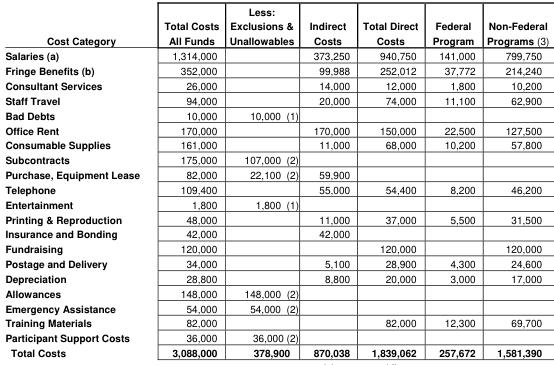table: (4, 3, 548, 359)
table column: (4, 3, 151, 359), (223, 3, 303, 359), (151, 3, 223, 359), (355, 3, 424, 359), (480, 3, 548, 359), (424, 3, 480, 359), (303, 3, 355, 359)
table column header: (4, 3, 548, 47)
table row: (4, 3, 548, 47), (4, 47, 548, 62), (4, 62, 548, 77), (4, 77, 548, 92), (4, 92, 548, 107), (4, 107, 548, 122), (4, 122, 548, 137), (4, 151, 548, 166), (4, 166, 548, 181), (4, 181, 548, 196), (4, 196, 548, 211), (4, 211, 548, 226), (4, 226, 548, 241), (4, 255, 548, 270), (4, 270, 548, 285), (4, 285, 548, 300), (4, 300, 548, 315), (4, 315, 548, 330), (4, 344, 548, 359), (4, 137, 548, 151), (4, 241, 548, 255), (4, 330, 548, 344)
